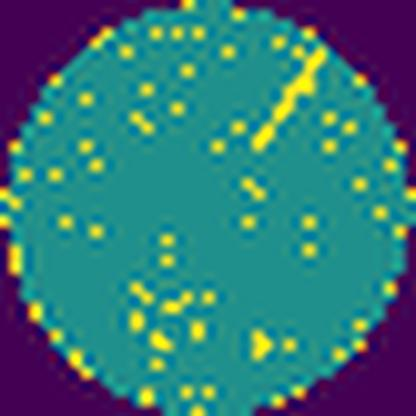Scratch: (247, 46, 328, 154)
